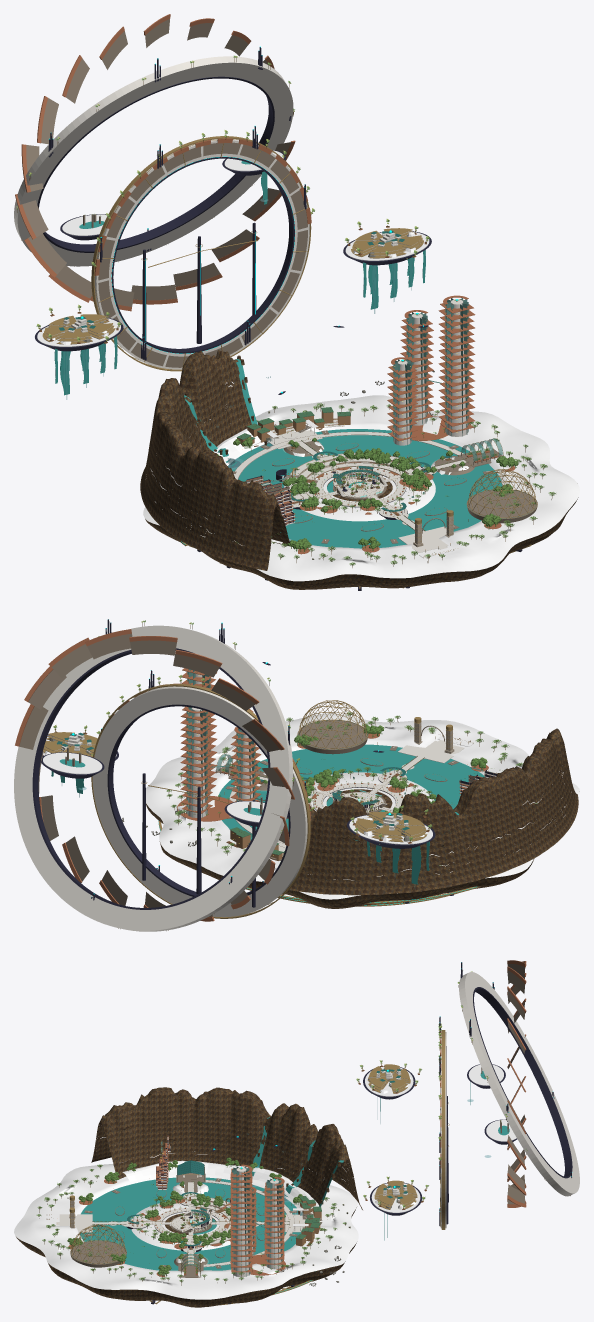
The model's file is solar-forum.glb.
3 renders of one model, top to bottom at view 1: azimuth 30°, elevation 25°; view 2: azimuth 150°, elevation 25°; view 3: azimuth 270°, elevation 25°, orthographic. The views are drawn at different scales.
Visible parts, largest first — view 1: Forum_Limestone, Forum_Coastal_meadow, Forum_Travertine, Forum_Water, Forum_Terracotta, Forum_Permagent_dark_stone, Forum_Forum_Basalt_stratum_3, Forum_Aged_bronze, Forum_Coastal_canopy, Forum_Forum_Basalt_stratum_0, Forum_Forum_Basalt_stratum_1, Forum_Forum_Basalt_stratum_2 (+6 smaller); view 2: Forum_Limestone, Forum_Coastal_meadow, Forum_Travertine, Forum_Forum_Basalt_stratum_3, Forum_Terracotta, Forum_Permagent_dark_stone, Forum_Forum_Basalt_stratum_0, Forum_Water, Forum_Aged_bronze, Forum_Forum_Basalt_stratum_1, Forum_Forum_Basalt_stratum_2, Forum_Coastal_canopy (+3 smaller); view 3: Forum_Coastal_meadow, Forum_Limestone, Forum_Forum_Basalt_stratum_3, Forum_Water, Forum_Terracotta, Forum_Forum_Basalt_stratum_1, Forum_Travertine, Forum_Forum_Basalt_stratum_2, Forum_Aged_bronze, Forum_Coastal_canopy, Forum_Permagent_dark_stone, Forum_Forum_Basalt_stratum_0 (+4 smaller).
Boxes of the visible parts, left/top/right/bottom form: Forum_Limestone: left=14, top=56, right=468, bottom=552; Forum_Coastal_meadow: left=37, top=150, right=579, bottom=581; Forum_Travertine: left=22, top=19, right=537, bottom=543; Forum_Water: left=54, top=161, right=502, bottom=548; Forum_Terracotta: left=15, top=14, right=515, bottom=554; Forum_Permagent_dark_stone: left=35, top=47, right=522, bottom=590; Forum_Forum_Basalt_stratum_3: left=151, top=350, right=517, bottom=589; Forum_Aged_bronze: left=42, top=136, right=537, bottom=588; Forum_Coastal_canopy: left=84, top=214, right=555, bottom=565; Forum_Forum_Basalt_stratum_0: left=140, top=377, right=578, bottom=585; Forum_Forum_Basalt_stratum_1: left=145, top=393, right=552, bottom=588; Forum_Forum_Basalt_stratum_2: left=148, top=355, right=540, bottom=589; Forum_Limestone: left=14, top=625, right=496, bottom=931; Forum_Coastal_meadow: left=43, top=713, right=579, bottom=899; Forum_Travertine: left=19, top=633, right=497, bottom=916; Forum_Forum_Basalt_stratum_3: left=309, top=728, right=566, bottom=906; Forum_Terracotta: left=15, top=629, right=496, bottom=921; Forum_Permagent_dark_stone: left=32, top=619, right=496, bottom=909; Forum_Forum_Basalt_stratum_0: left=146, top=783, right=578, bottom=903; Forum_Water: left=51, top=744, right=484, bottom=884; Forum_Aged_bronze: left=43, top=684, right=533, bottom=918; Forum_Forum_Basalt_stratum_1: left=156, top=768, right=572, bottom=907; Forum_Forum_Basalt_stratum_2: left=185, top=753, right=568, bottom=908; Forum_Coastal_canopy: left=65, top=670, right=537, bottom=865; Forum_Coastal_meadow: left=14, top=1064, right=516, bottom=1299; Forum_Limestone: left=56, top=972, right=579, bottom=1277; Forum_Forum_Basalt_stratum_3: left=98, top=1087, right=353, bottom=1307; Forum_Water: left=80, top=1071, right=509, bottom=1270; Forum_Terracotta: left=68, top=960, right=526, bottom=1276; Forum_Forum_Basalt_stratum_1: left=21, top=1124, right=357, bottom=1305; Forum_Travertine: left=70, top=964, right=525, bottom=1277; Forum_Forum_Basalt_stratum_2: left=36, top=1120, right=355, bottom=1307; Forum_Aged_bronze: left=39, top=1030, right=449, bottom=1305; Forum_Coastal_canopy: left=36, top=1120, right=501, bottom=1281; Forum_Permagent_dark_stone: left=126, top=962, right=572, bottom=1304; Forum_Forum_Basalt_stratum_0: left=16, top=1137, right=362, bottom=1302.
Bounding box in the file's own units: 374 × 334 × 582.
Materials: 55 (6 with a texture image).
